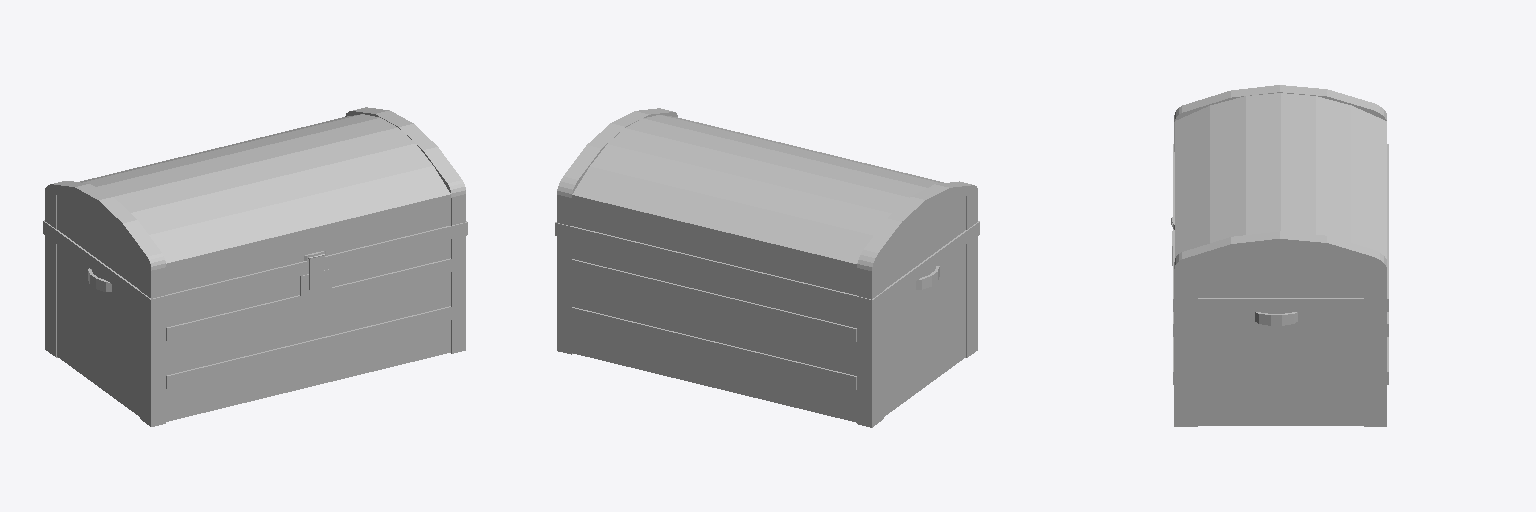
The model's file is Chest asset.obj.
3 renders of one model, left to right at view 1: azimuth 30°, elevation 25°; view 2: azimuth 150°, elevation 25°; view 3: azimuth 270°, elevation 25°, orthographic.
Parts seen in each view (by area): view 1: Box001, Box006, Box004, Box003, Box012, Box019, Box013, Box020, Box014; view 2: Box001, Box006, Box009, Box008, Box014, Box019, Box015, Box020, Box012; view 3: Box001, Box020, Box006, Box013, Box015, Box019.
Part boxes in pixels (x1,y1,x2,y2): Box001: (57, 114, 450, 421); Box006: (43, 220, 467, 311); Box004: (166, 306, 451, 388); Box003: (166, 258, 451, 340); Box012: (140, 263, 165, 426); Box019: (45, 181, 165, 270); Box013: (451, 194, 465, 353); Box020: (345, 107, 465, 199); Box014: (45, 193, 57, 357); Box001: (572, 115, 965, 422); Box006: (555, 221, 979, 312); Box009: (571, 307, 856, 389); Box008: (571, 259, 856, 341); Box014: (857, 263, 883, 427); Box019: (857, 181, 977, 270); Box015: (557, 195, 572, 354); Box020: (557, 108, 677, 197); Box012: (966, 194, 977, 357); Box001: (1175, 93, 1386, 425); Box020: (1174, 231, 1386, 270); Box006: (1173, 144, 1388, 311); Box013: (1174, 271, 1197, 426); Box015: (1364, 271, 1386, 426); Box019: (1174, 85, 1386, 125).
Bounding box in the file's own units: 64.33 × 35.11 × 36.74.